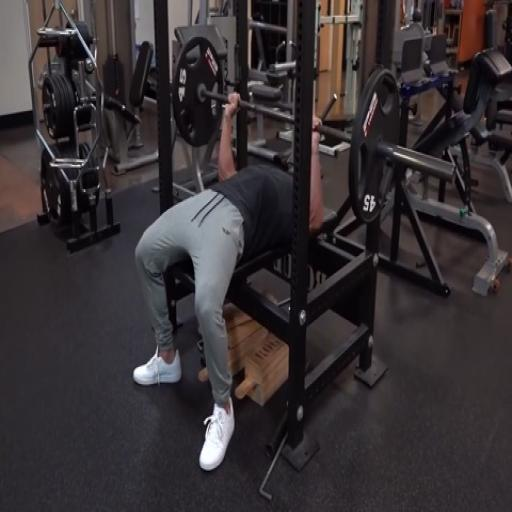exercise: (130, 90, 328, 474)
